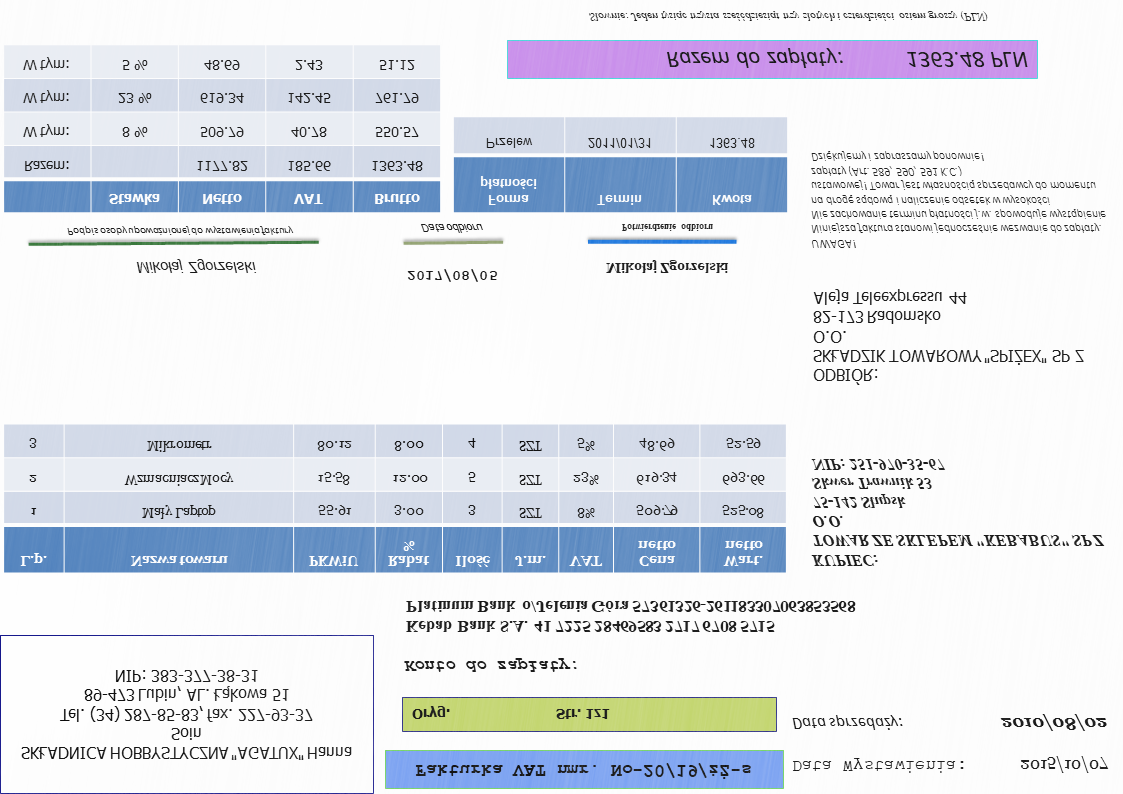Table: (2, 422, 788, 574), (1, 45, 443, 214), (451, 114, 789, 215)
TextBox: (808, 453, 1112, 572), (18, 663, 355, 764), (808, 148, 1107, 251), (810, 284, 1088, 389), (402, 597, 859, 637), (663, 45, 1030, 73), (412, 760, 755, 782), (586, 8, 991, 26), (409, 702, 612, 725), (400, 655, 581, 677), (790, 754, 966, 776), (64, 225, 297, 239), (601, 257, 731, 278), (998, 710, 1109, 734), (134, 257, 261, 277), (789, 712, 904, 733), (403, 264, 499, 287), (1017, 753, 1110, 776), (617, 220, 715, 235), (418, 220, 486, 236)
